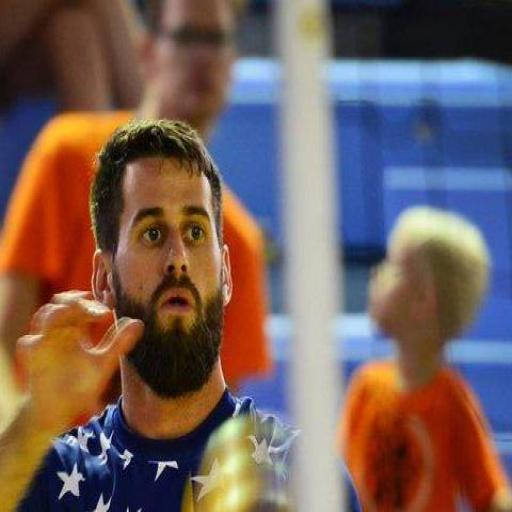person: (0, 120, 296, 511), (0, 0, 236, 365), (339, 207, 511, 511), (0, 0, 141, 111)
